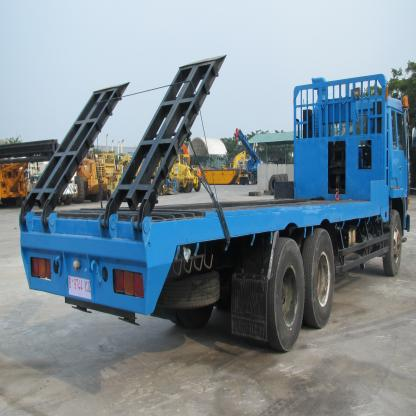truck: (23, 58, 409, 351)
